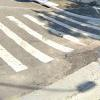crosswalks: (0, 9, 100, 70)
